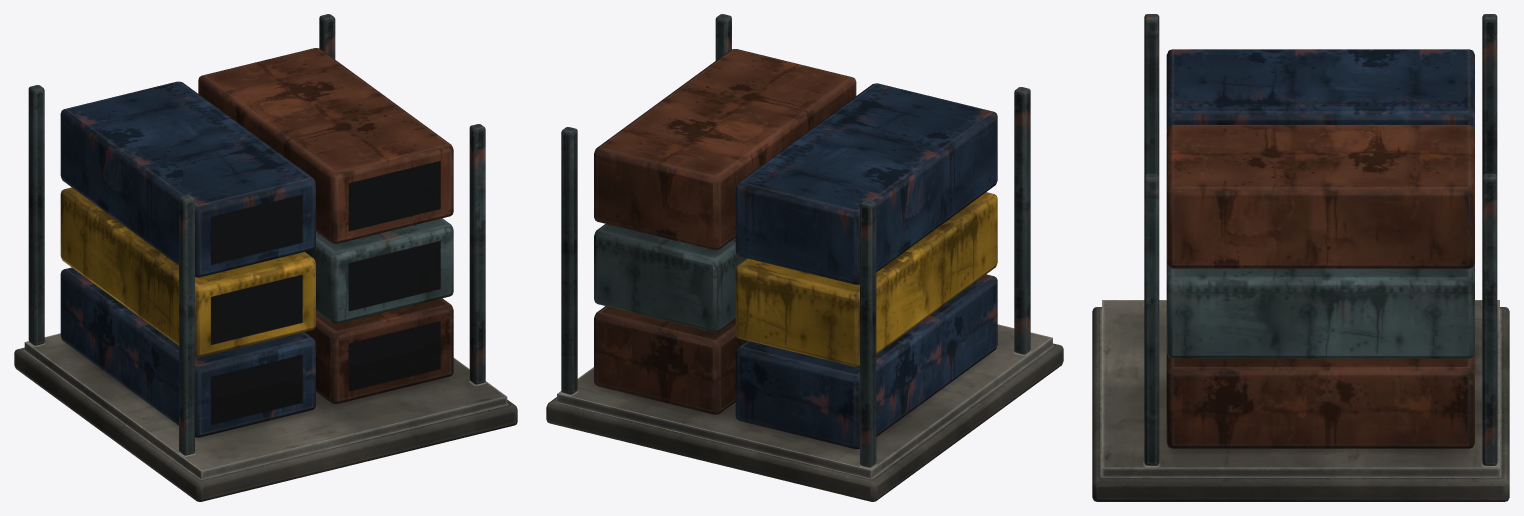
Rendered from large_storage.glb.
3 views of the same model, side by side, from view 1: azimuth 30°, elevation 25°; view 2: azimuth 150°, elevation 25°; view 3: azimuth 270°, elevation 25° (orthographic). The views are drawn at different scales.
Visible parts, largest first — view 1: te_large_storage; view 2: te_large_storage; view 3: te_large_storage.
Boxes of the visible parts, x1=… form: te_large_storage: x1=14, y1=14, x2=517, y2=501; te_large_storage: x1=546, y1=14, x2=1063, y2=501; te_large_storage: x1=1092, y1=14, x2=1509, y2=501.
Bounding box in the file's own units: 0.84 × 0.71 × 0.84.
Materials: 1 (1 with a texture image).
